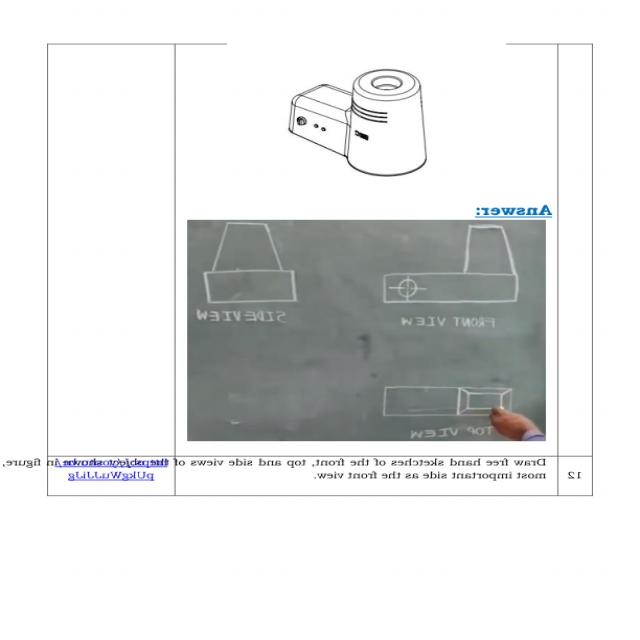Drawings: (366, 222, 528, 312), (192, 218, 307, 308)
